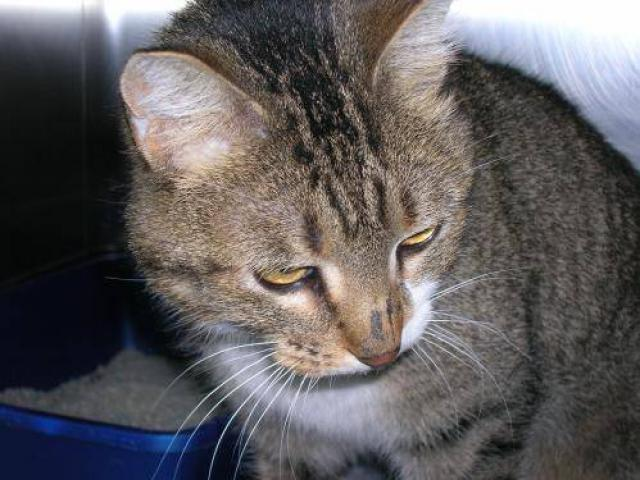cat: (101, 1, 638, 479)
